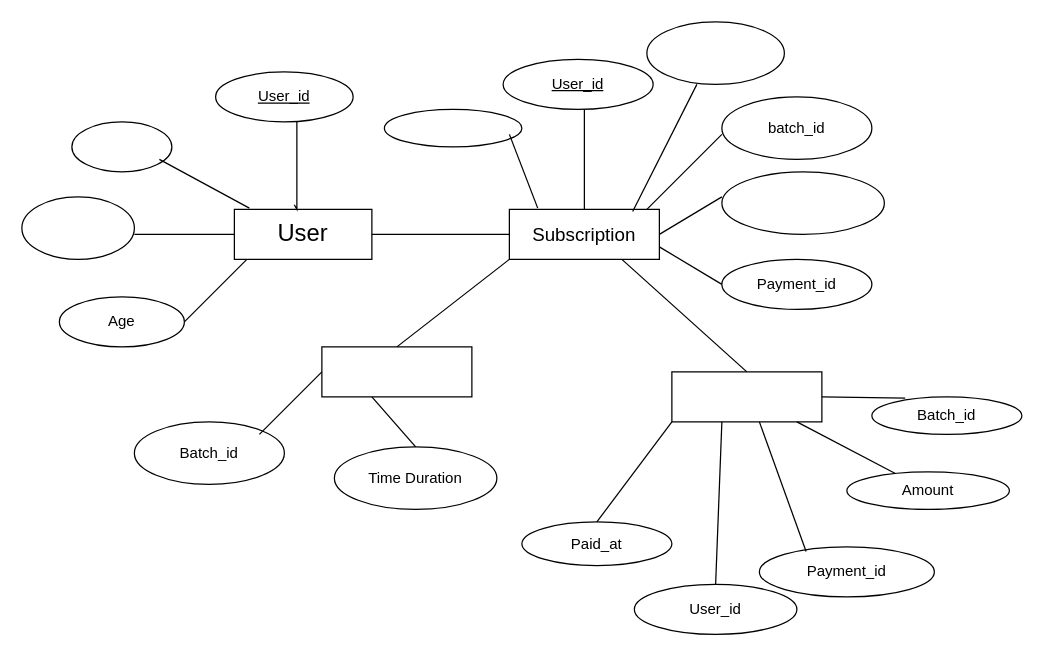
Image size: 1044x656. Some labels were removed from this diagram. The shapes that lost their labels are listed below. From the top down, each one's centre as x and y in pixels, then its label:
[715,52]: end_date
[121,146]: Name
[452,127]: Start_date
[802,202]: Subscription id
[77,227]: Email
[396,371]: Batch
[746,396]: Payment
